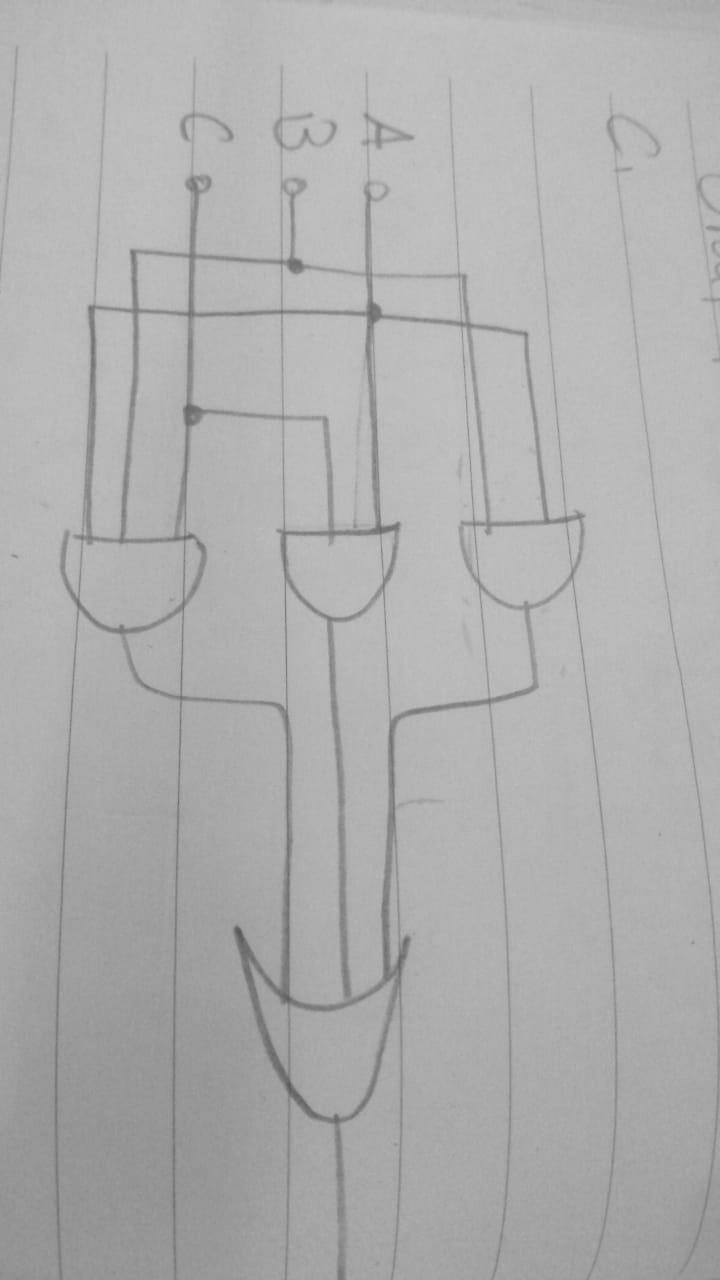AND: (48, 505, 227, 653), (265, 502, 420, 635), (450, 498, 610, 621)
OR: (215, 898, 454, 1147)
